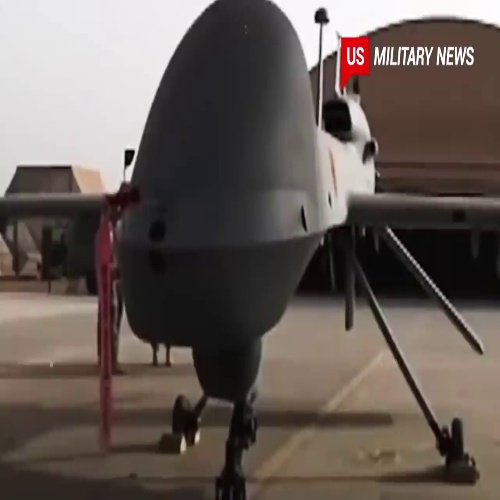uav700: (11, 4, 495, 500)
